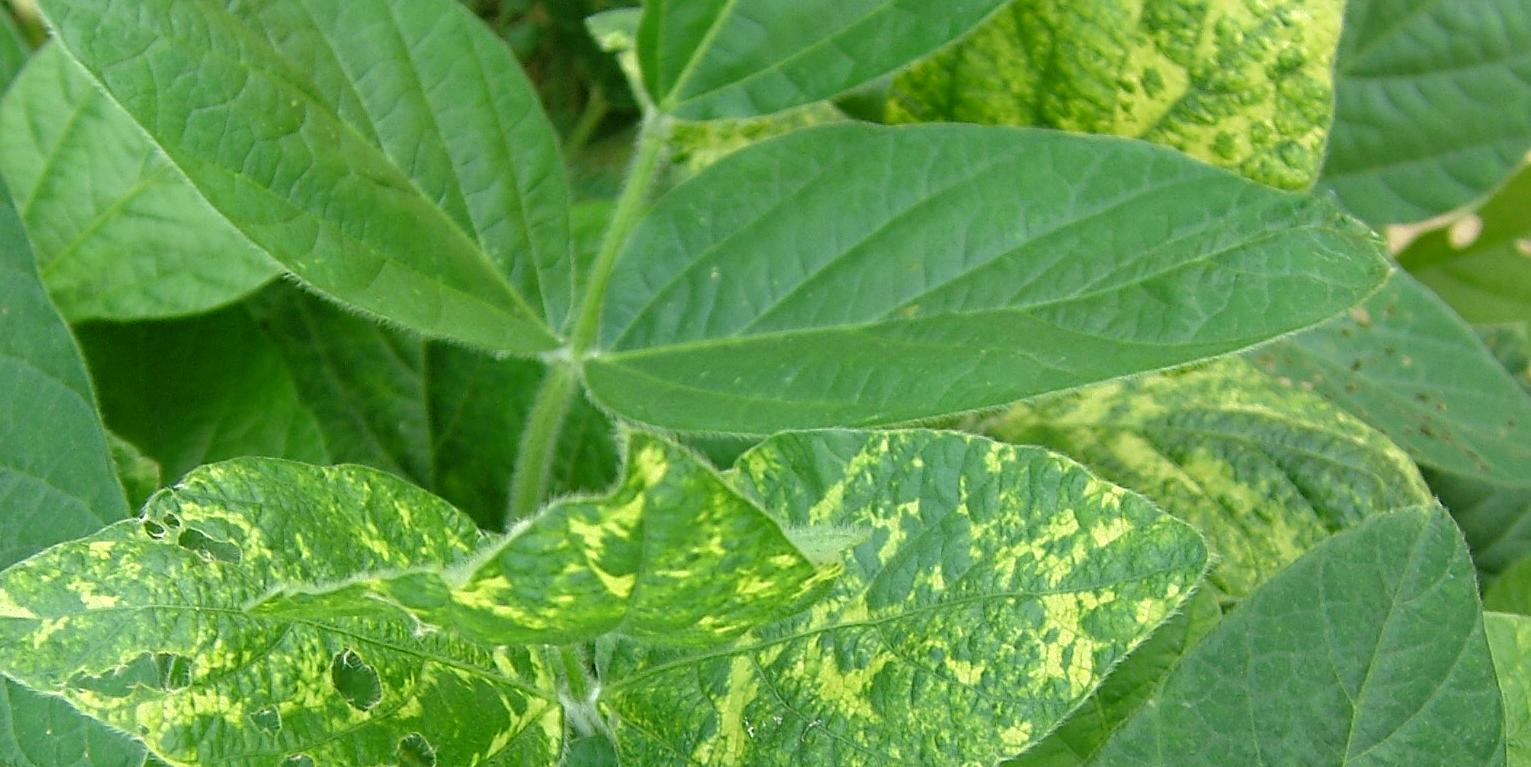Tomato leaf: (582, 110, 1361, 441)
Tomato leaf mosaic virus: (0, 431, 564, 767), (606, 451, 1178, 767)
